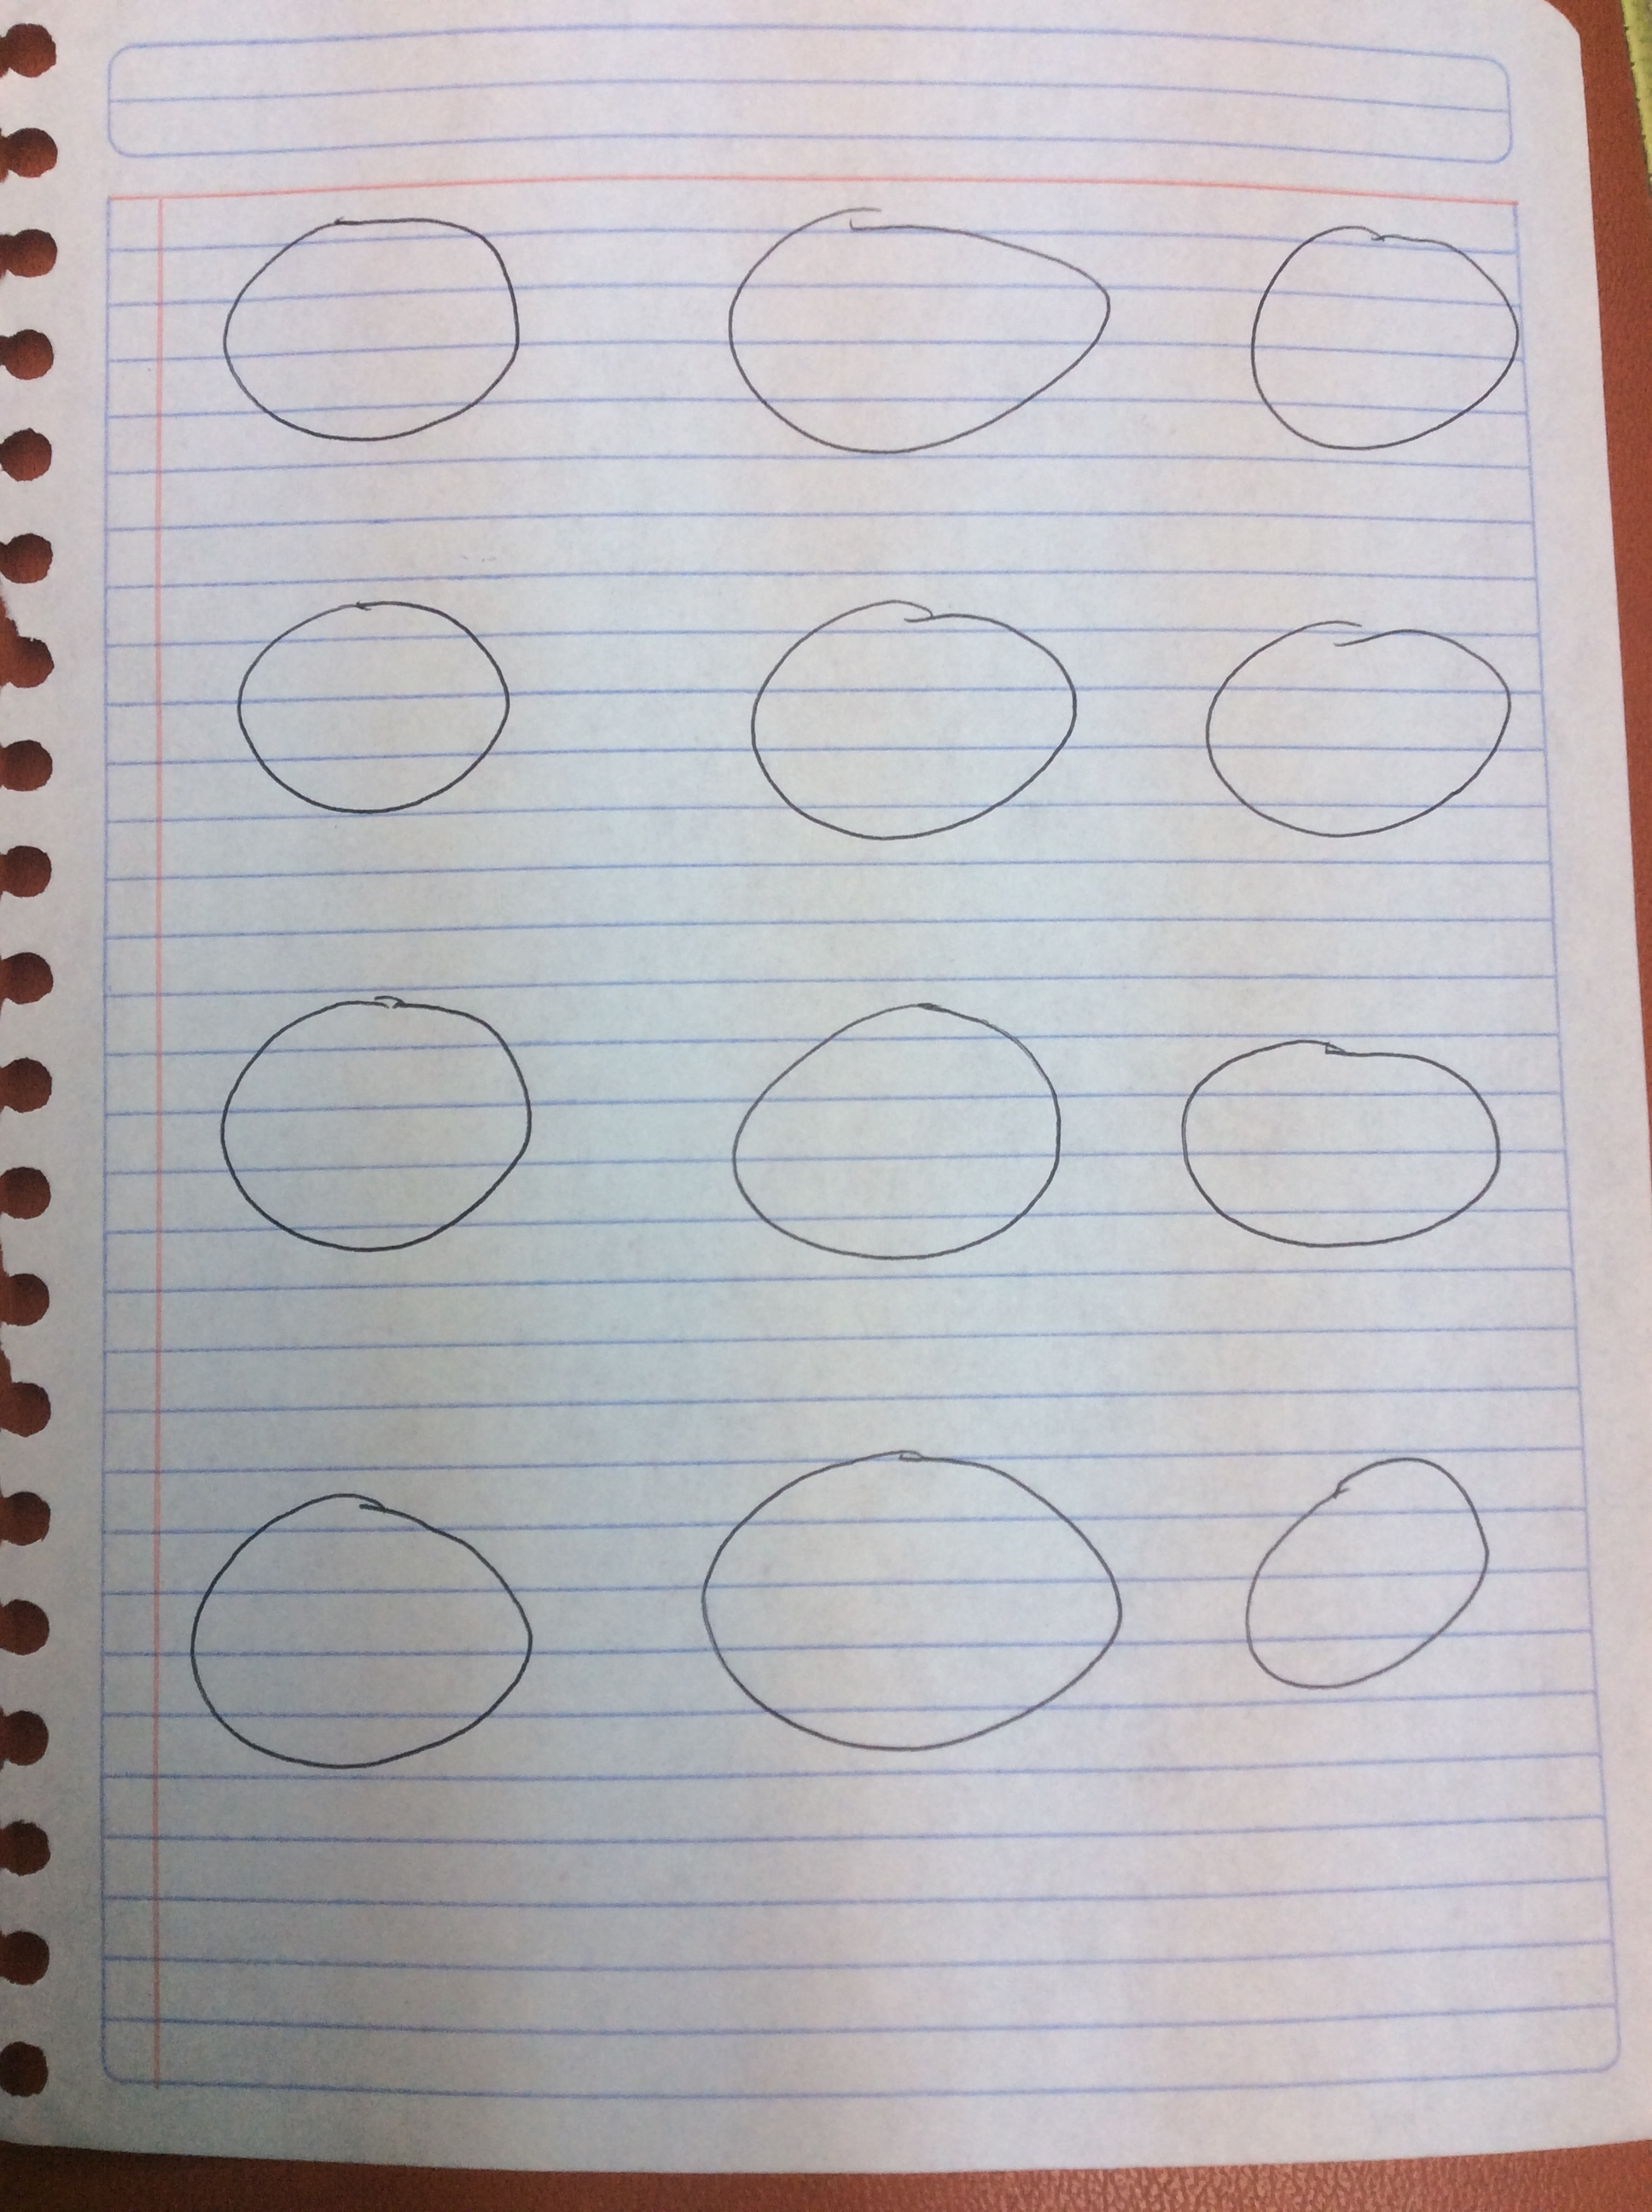start_end: (672, 1417, 1142, 1778), (158, 1468, 559, 1806), (701, 177, 1128, 481), (711, 970, 1086, 1298), (729, 574, 1090, 861), (1159, 1001, 1520, 1287), (206, 973, 545, 1273), (1199, 1423, 1510, 1744), (1189, 590, 1524, 874), (193, 194, 541, 465), (1216, 184, 1531, 472), (203, 579, 531, 836)
